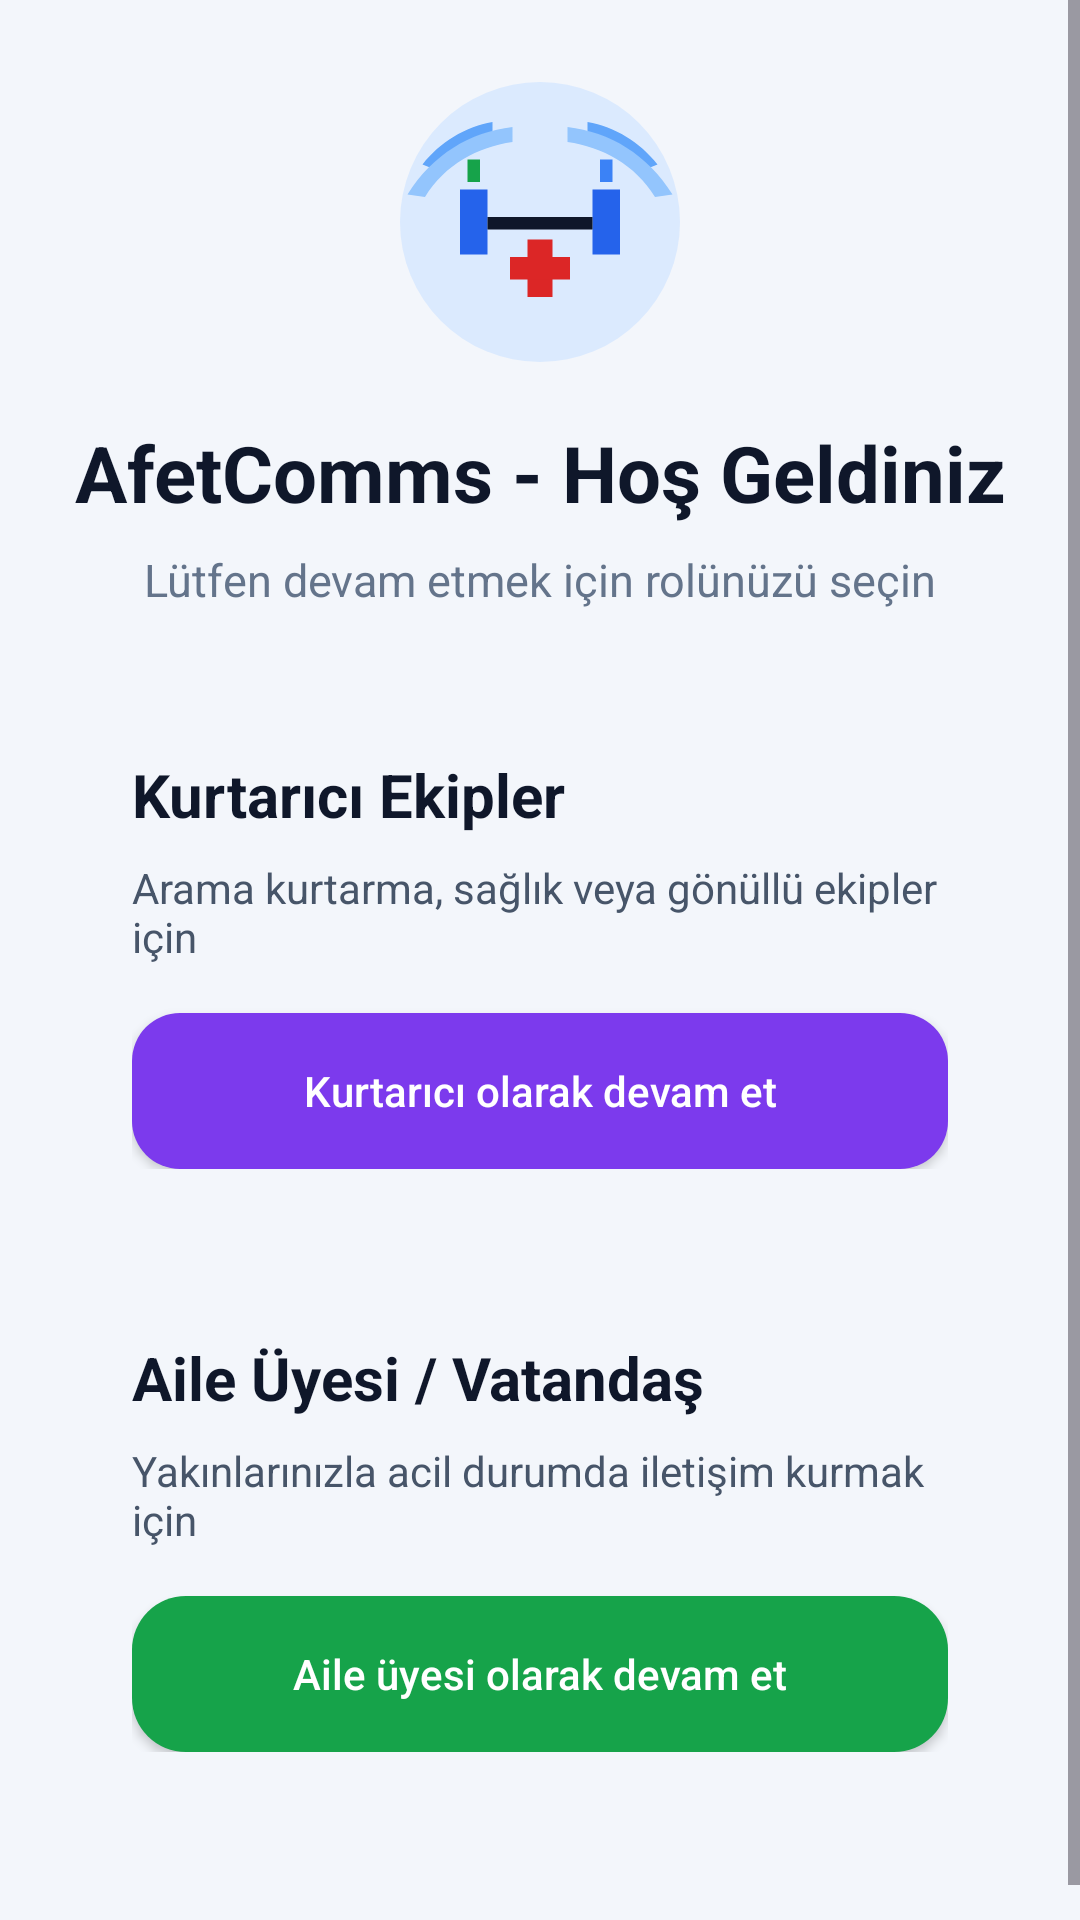

Icons on this 1080x1920 Android screen, each with the point to tap as [x,y]:
disaster network: [540,222]
